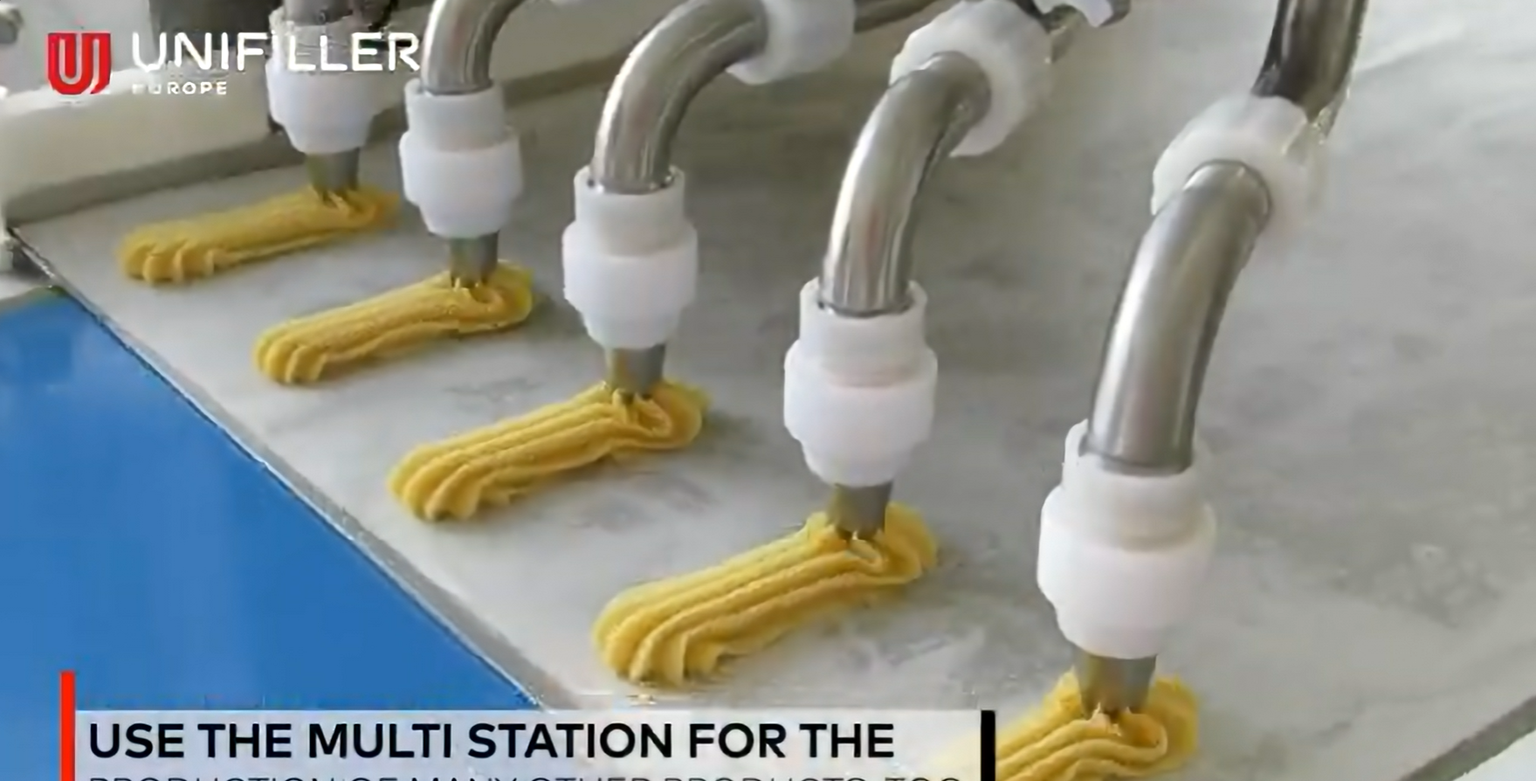Vermicelli: (584, 496, 942, 681), (387, 376, 707, 515), (257, 256, 537, 381), (122, 173, 391, 284), (992, 674, 1224, 781)
